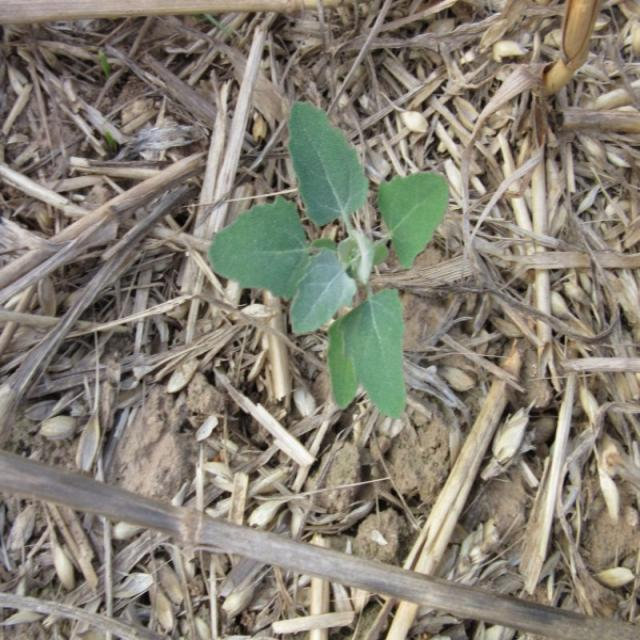ca: (208, 100, 444, 416)
